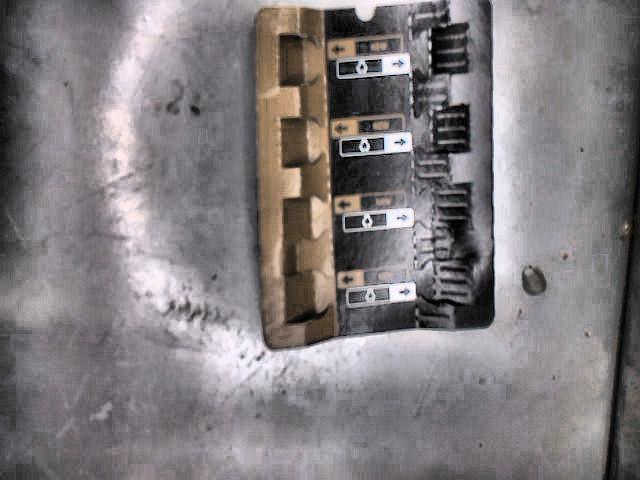Paper: (253, 0, 497, 352)
